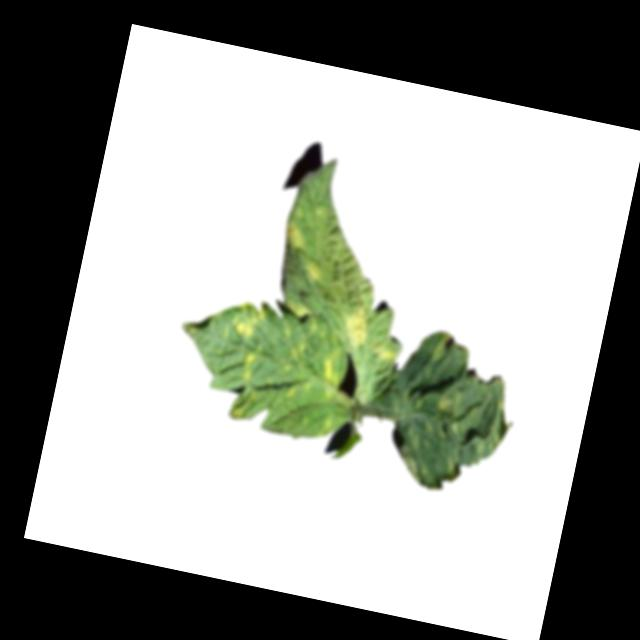Leaf_Mold: (156, 286, 359, 446), (376, 322, 526, 501), (345, 307, 370, 349), (372, 337, 401, 363), (283, 223, 307, 250), (300, 258, 322, 285)
